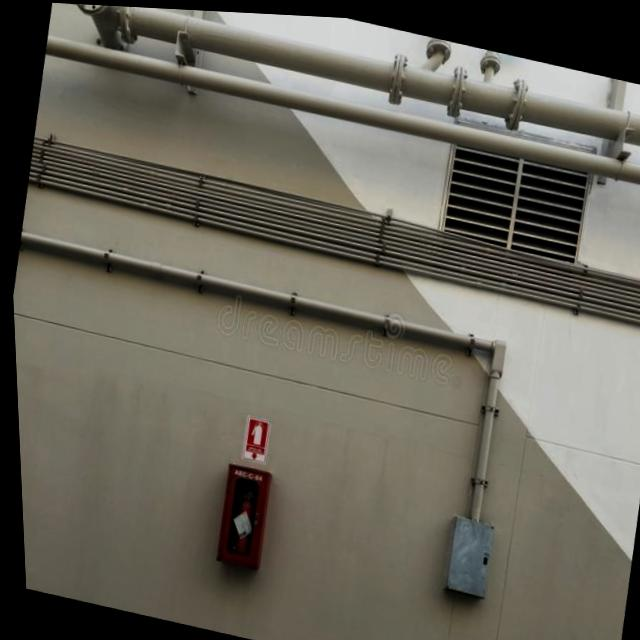FireExtinguisher: (218, 474, 261, 561)
